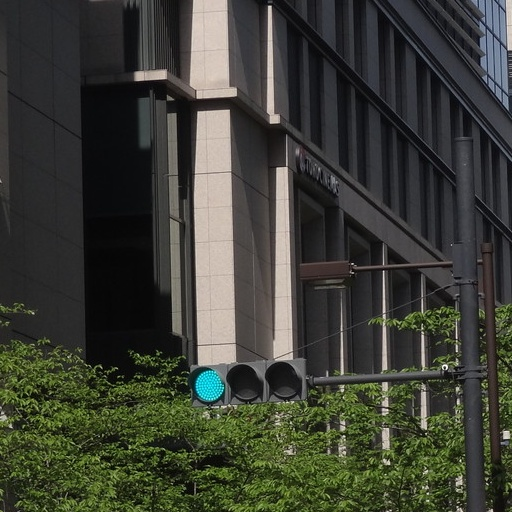Traffic_Signal_Blue: (181, 358, 309, 412)
